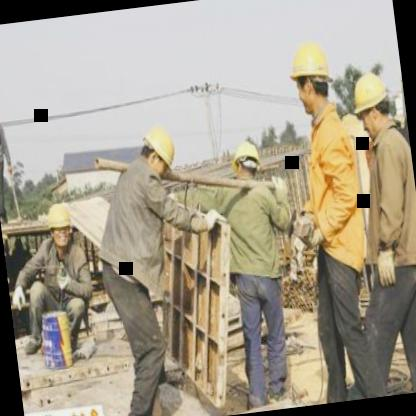helmet: (280, 30, 340, 126), (346, 65, 396, 140), (132, 115, 184, 186), (228, 138, 265, 188), (42, 200, 77, 251)
